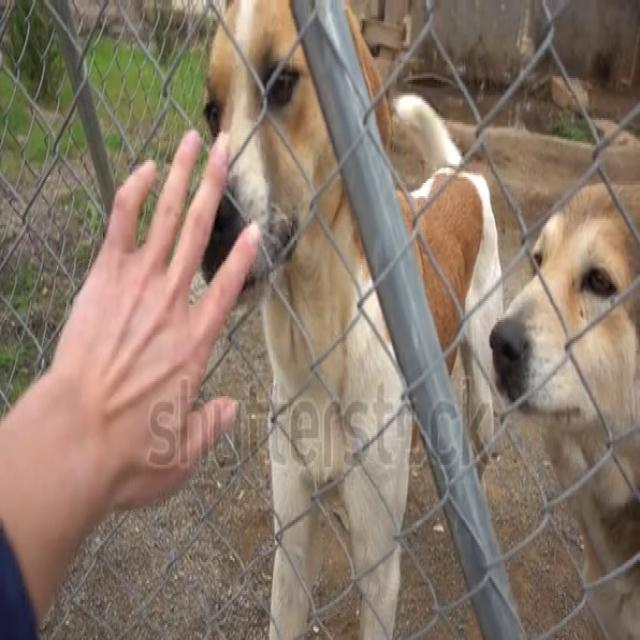normal_animals: (196, 0, 506, 638), (483, 163, 640, 563)
